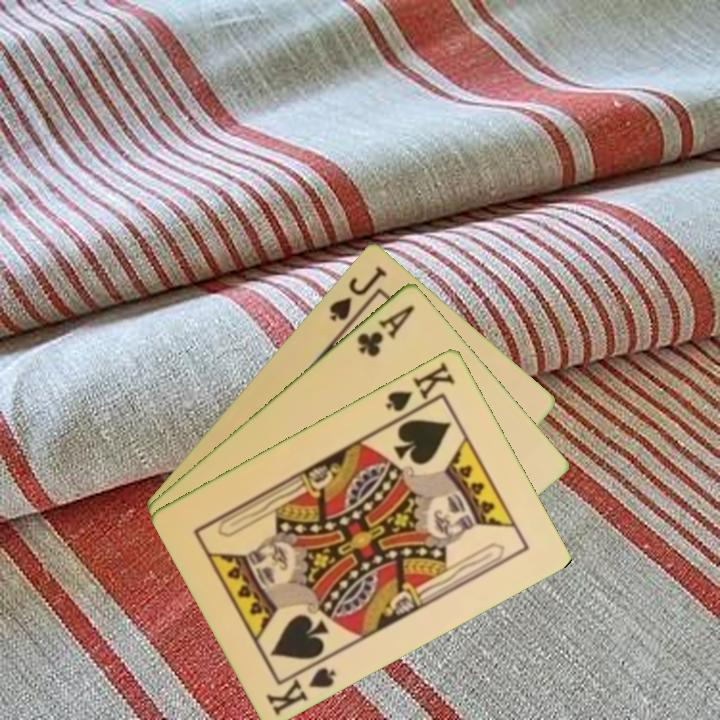Ac: (353, 300, 418, 359)
Js: (325, 262, 391, 324)
Ks: (262, 653, 339, 718), (382, 358, 458, 415)
